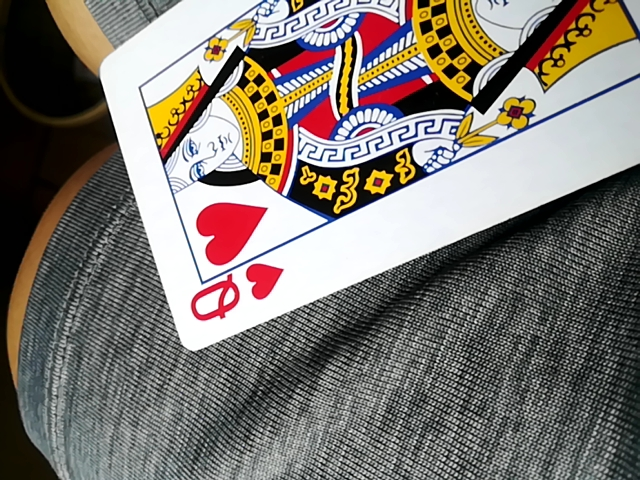hx q: (96, 2, 639, 344)
